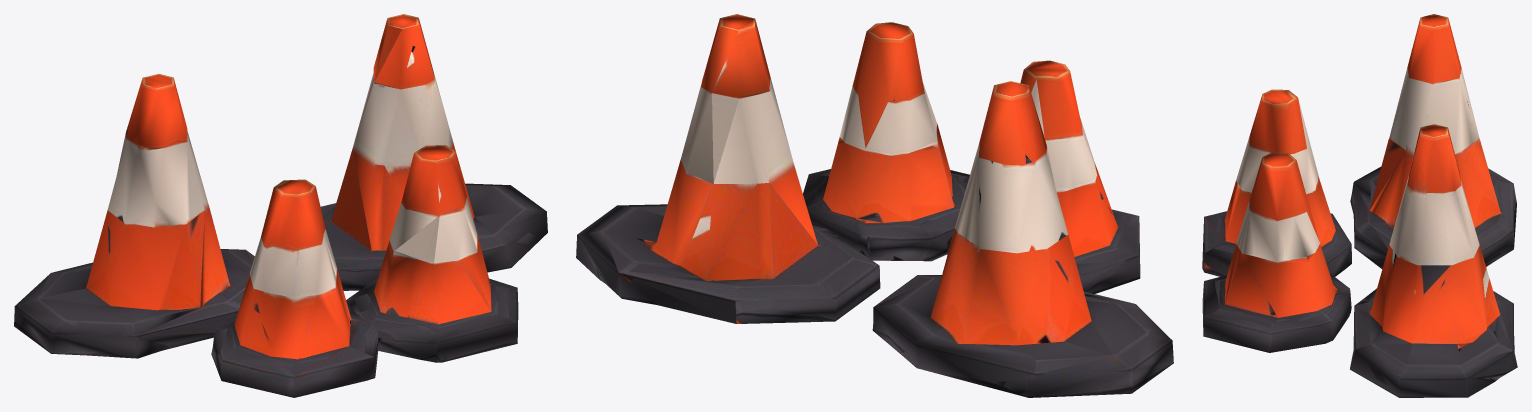
The model's file is cone_cluster.fbx.
The picture shows the model from 3 angles, left to right: view 1: azimuth 30°, elevation 25°; view 2: azimuth 150°, elevation 25°; view 3: azimuth 270°, elevation 25°; orthographic projection. The views are drawn at different scales.
Visible parts, largest first — view 1: cone_cluster; view 2: cone_cluster; view 3: cone_cluster.
Part boxes in pixels (bbox=[...]): cone_cluster: bbox=[14, 14, 547, 397]; cone_cluster: bbox=[576, 14, 1173, 397]; cone_cluster: bbox=[1202, 14, 1517, 397].
Bounding box in the file's own units: 1.3 × 0.5706 × 0.7757.
1 material, 1 textured.
